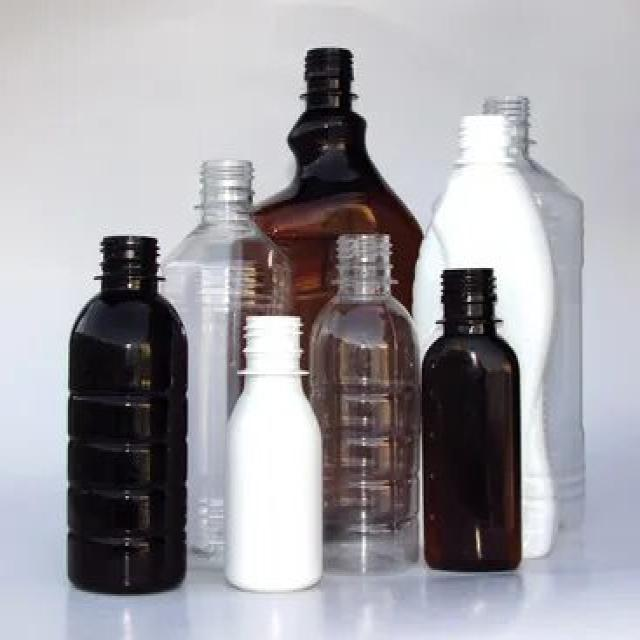brown: (65, 237, 186, 590), (254, 45, 423, 235), (423, 268, 522, 574)
